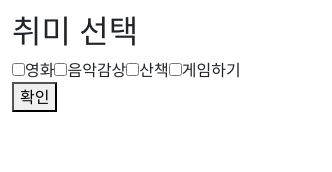
Test case: HobbiesExam 컴포넌트 › 아무것도 선택하지 않고 확인을 누르면 "선택 없음"이 출력된다.
Click the button "확인".
click(35, 97)  # box [12, 82, 58, 112]
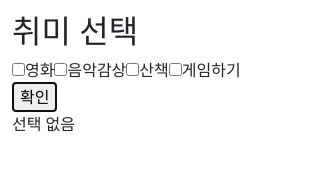
expect the text with test id "result" reads "선택 없음": met, box [12, 113, 75, 135]
